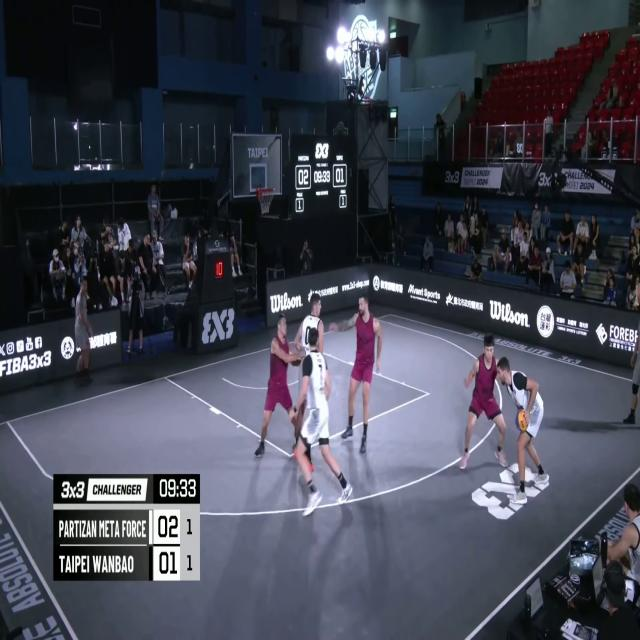ball: (516, 408, 532, 436)
hoop: (255, 185, 275, 217)
player: (294, 330, 350, 515), (497, 354, 554, 508), (332, 294, 381, 452), (254, 317, 307, 463), (295, 292, 335, 456), (463, 337, 507, 471)
